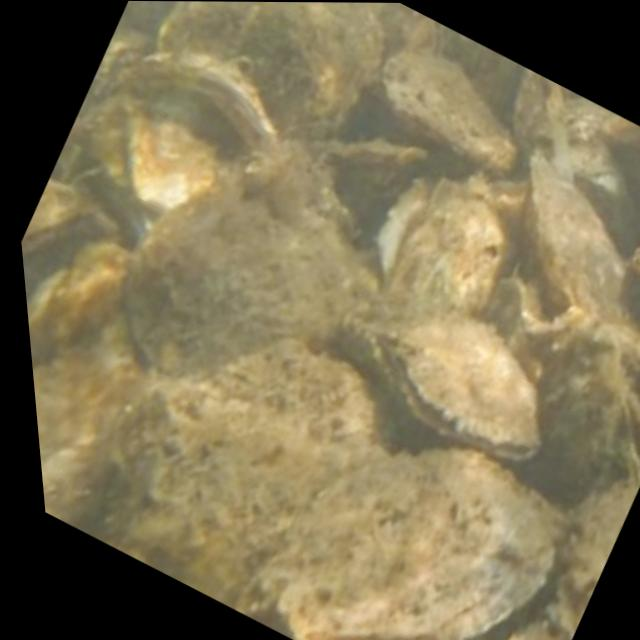Oyster-Closed: (388, 314, 542, 467), (616, 392, 640, 485)
Oyster-Indeterminate: (83, 352, 371, 610), (257, 446, 554, 640), (124, 144, 374, 372), (32, 331, 156, 530), (231, 2, 381, 133), (520, 306, 621, 497), (525, 161, 634, 325), (382, 49, 507, 169), (388, 196, 506, 318), (550, 483, 640, 640), (28, 241, 133, 366), (566, 92, 640, 267), (125, 56, 270, 145), (125, 101, 239, 202), (313, 138, 416, 230), (159, 1, 267, 68), (516, 70, 575, 179), (21, 178, 100, 254), (600, 113, 640, 221), (482, 277, 541, 342)
